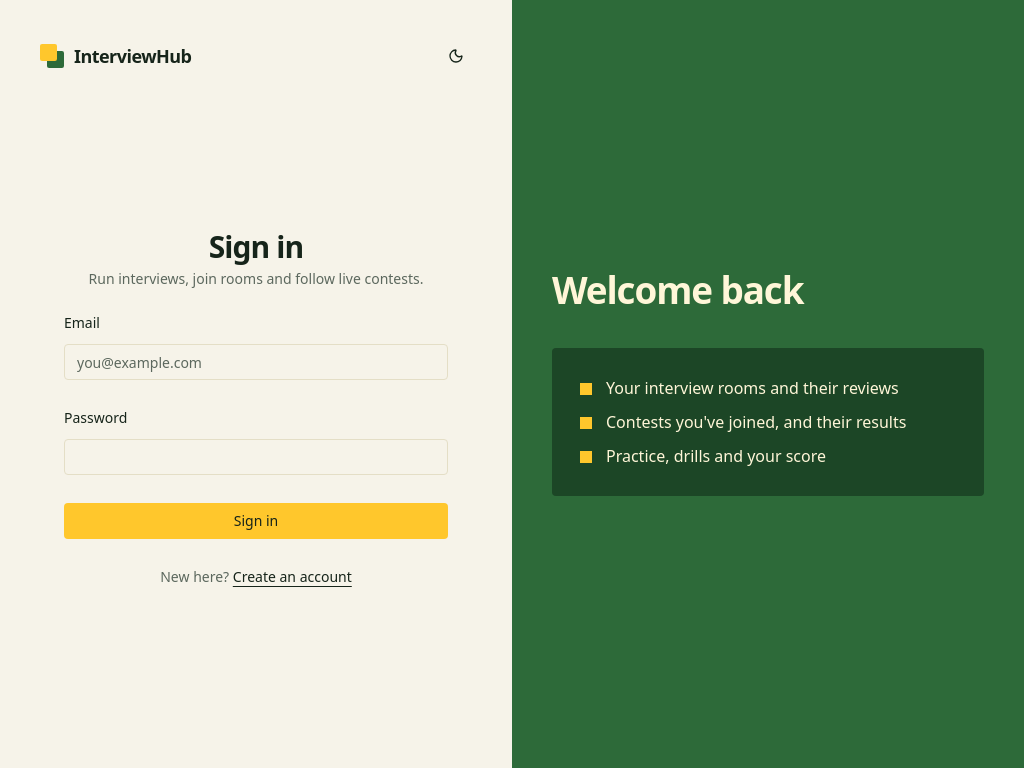
Test case: Login page › validates the fields before calling the API
The image size is (1024, 768).
Type "not-an-email" into the field labelled "Email". click: (256, 362)
box: [64,344,448,380]
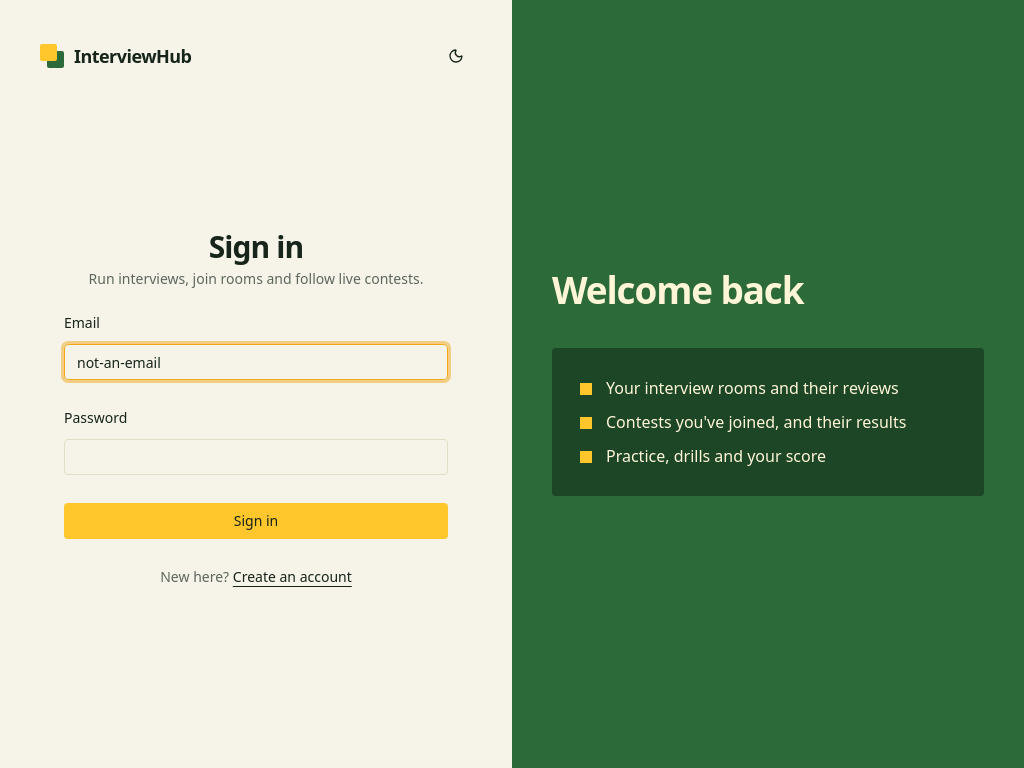
Type "123" into the password field labelled "Password". click: (256, 457)
box: [64,439,448,475]
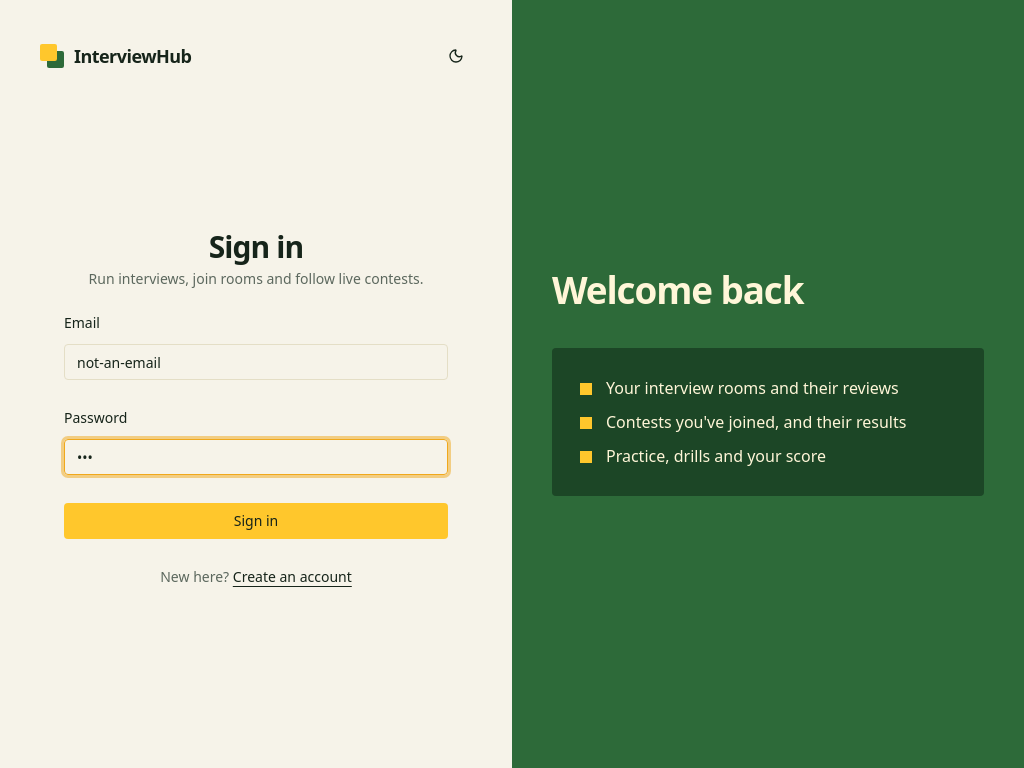
Click the button "Sign in". click: (256, 521)
box: [64,503,448,539]
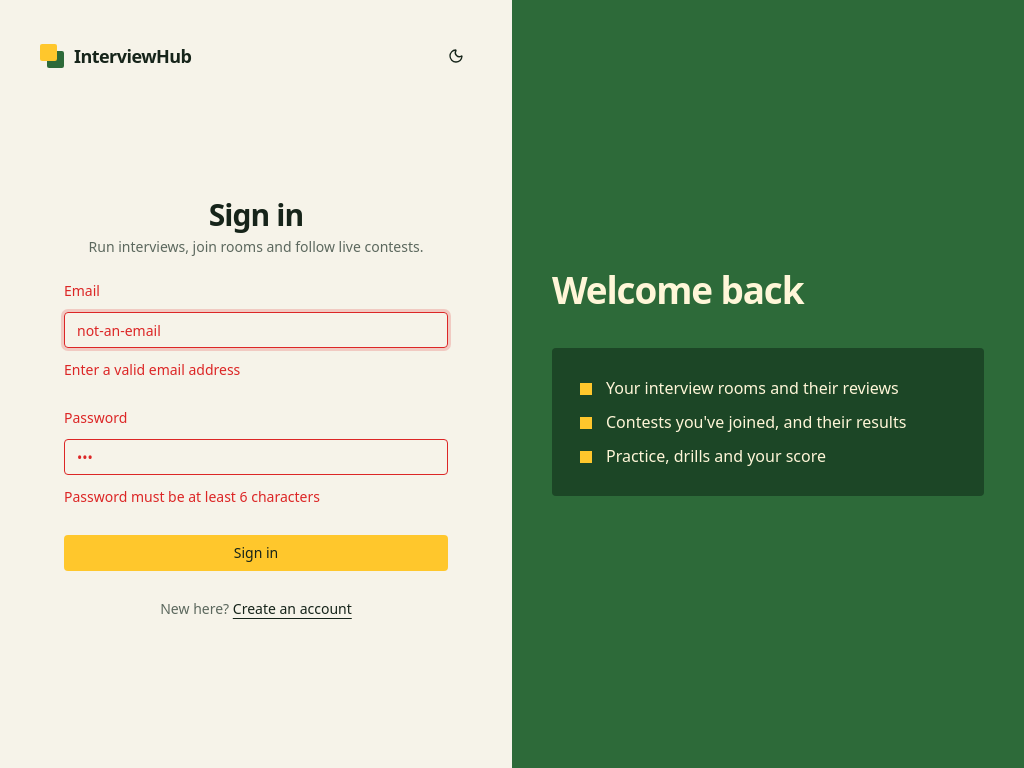
Expected: the text "Enter a valid email address" is shown, [64,360,240,379]
Expected: the text "Password must be at least 6 characters" is shown, [64,487,320,506]
